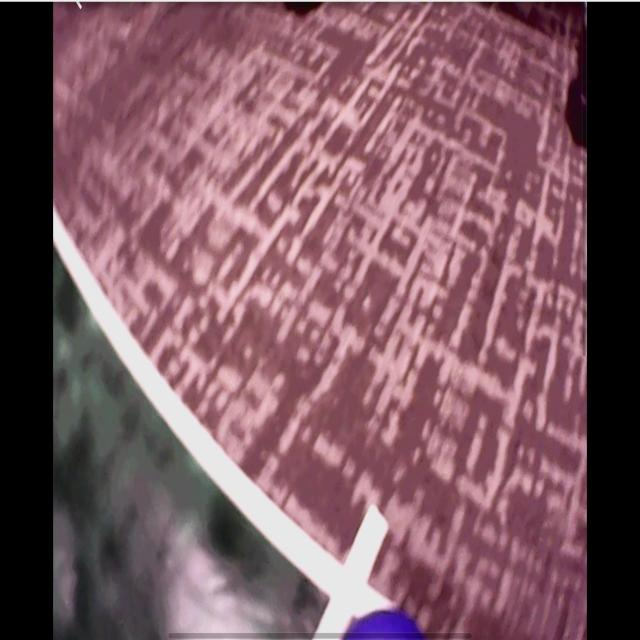ball: (348, 610, 427, 640)
